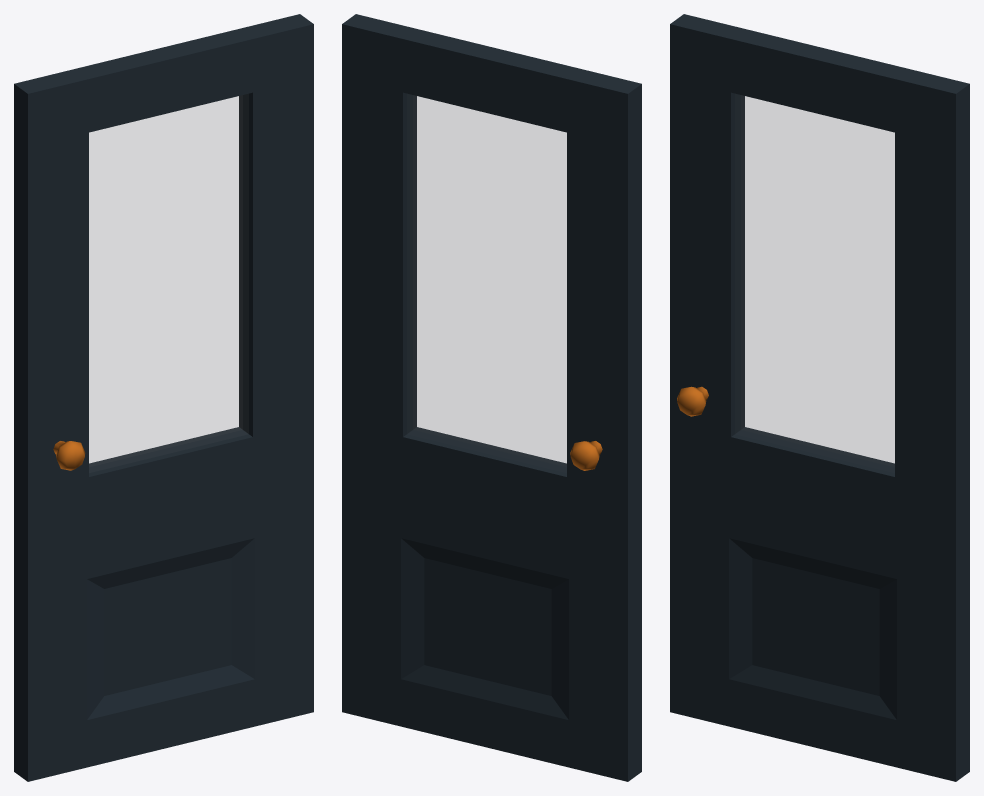
Rendered from SM_Buildings_Office_11_Door_R.fbx.
3 views of the same model, side by side, from view 1: azimuth 30°, elevation 25°; view 2: azimuth 150°, elevation 25°; view 3: azimuth 330°, elevation 25° (orthographic).
Parts seen in each view (by area): view 1: SM_Buildings_Office_11_Door_R; view 2: SM_Buildings_Office_11_Door_R; view 3: SM_Buildings_Office_11_Door_R.
Part boxes in pixels (x1=…): SM_Buildings_Office_11_Door_R: x1=14, y1=14, x2=313, y2=781; SM_Buildings_Office_11_Door_R: x1=342, y1=14, x2=641, y2=781; SM_Buildings_Office_11_Door_R: x1=670, y1=14, x2=969, y2=781.
Size of the model in its own units: 0.9867 by 2.27 by 0.2745.
